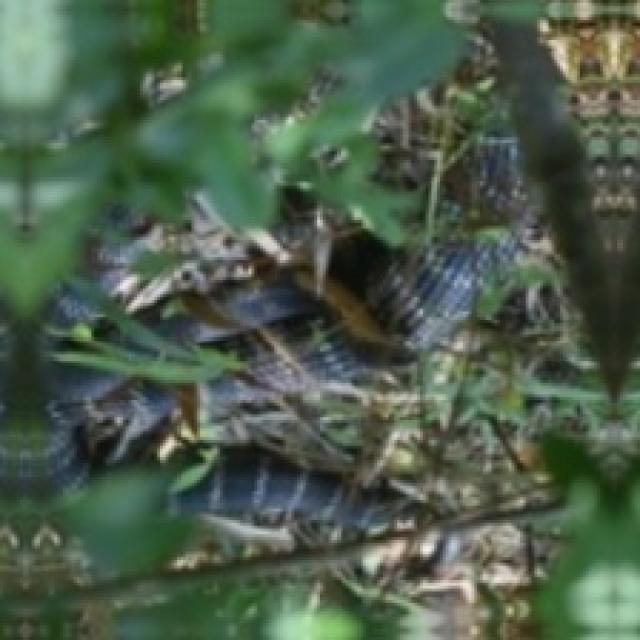king cobra: (179, 448, 416, 548), (370, 240, 511, 349), (288, 330, 419, 409), (50, 386, 150, 486), (211, 340, 303, 431), (225, 280, 319, 329), (441, 169, 524, 219)
